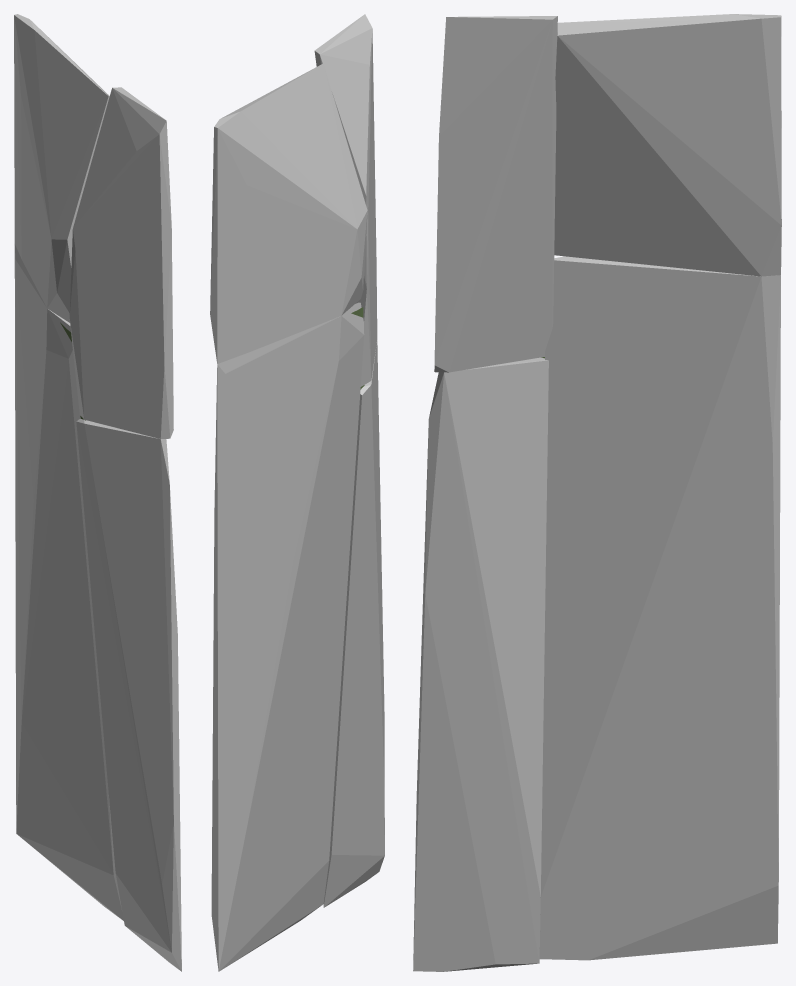
The model's file is SM_Env_Leaves_Line_04.fbx.
The picture shows the model from 3 angles, left to right: view 1: azimuth 30°, elevation 25°; view 2: azimuth 150°, elevation 25°; view 3: azimuth 270°, elevation 25°; orthographic projection. The views are drawn at different scales.
Visible parts, largest first — view 1: SM_Env_Leaves_Line_04_ConvexHulls; view 2: SM_Env_Leaves_Line_04_ConvexHulls; view 3: SM_Env_Leaves_Line_04_ConvexHulls.
Boxes of the visible parts, x1=… form: SM_Env_Leaves_Line_04_ConvexHulls: x1=14, y1=14, x2=181, y2=971; SM_Env_Leaves_Line_04_ConvexHulls: x1=210, y1=14, x2=384, y2=971; SM_Env_Leaves_Line_04_ConvexHulls: x1=413, y1=14, x2=781, y2=971.
Bounding box in the file's own units: 7.76 × 39.01 × 111.
2 materials, 1 textured.
